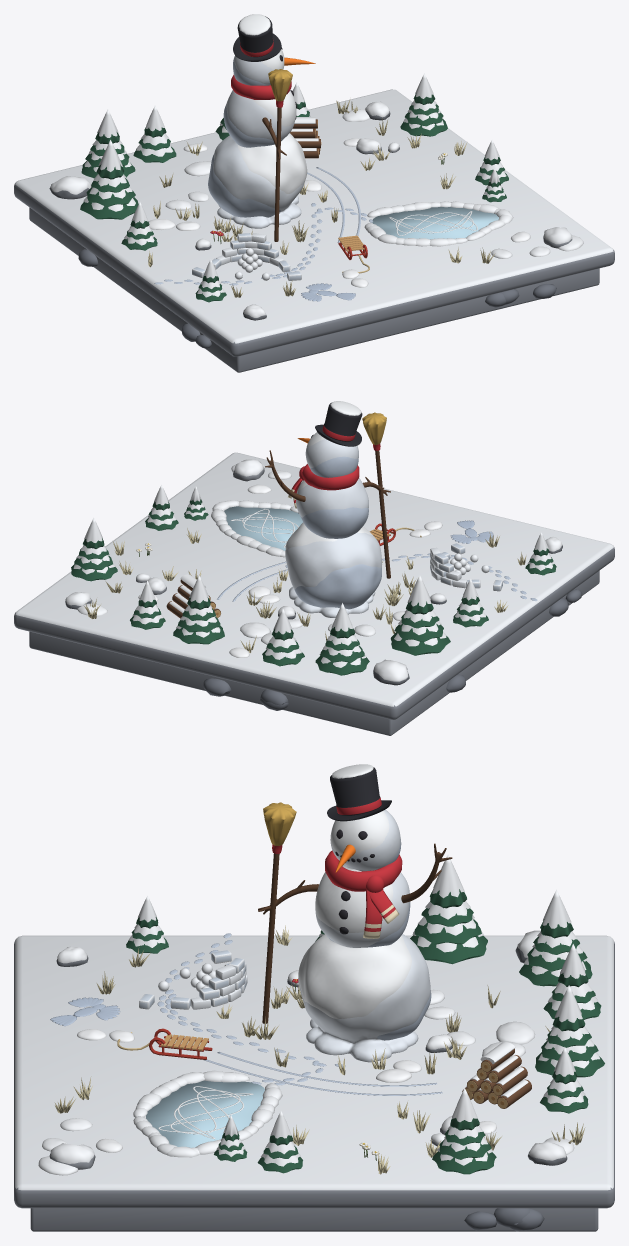
The model's file is snowman.glb.
3 renders of one model, top to bottom at view 1: azimuth 30°, elevation 25°; view 2: azimuth 150°, elevation 25°; view 3: azimuth 270°, elevation 25°, orthographic. The views are drawn at different scales.
Parts seen in each view (by area): view 1: Base, Blossoms, Firs, Grass, Rink, Trunk, Fort, Snow, Trails, LogPile, Rocks, Sledge; view 2: Base, Firs, Blossoms, Grass, Rink, Trunk, Snow, Fort, Trails, LogPile, Rocks; view 3: Base, Blossoms, Firs, Rink, Grass, Trunk, Trails, Fort, LogPile, Snow, Sledge, Rocks.
Part boxes in pixels (x1,y1,x2,y2): Base: (14,89,614,372); Blossoms: (208,14,315,228); Firs: (80,73,508,302); Grass: (148,99,583,297); Rink: (364,201,513,246); Trunk: (233,16,292,241); Fort: (192,233,301,280); Snow: (50,101,572,317); Trails: (154,167,372,301); LogPile: (290,117,321,158); Rocks: (49,111,572,320); Sledge: (338,235,369,273); Base: (14,452,614,735); Firs: (71,485,556,675); Blossoms: (285,401,381,617); Grass: (77,464,526,657); Rink: (211,500,302,557); Trunk: (265,402,390,578); Snow: (65,459,562,681); Fort: (430,543,502,591); Trails: (217,520,537,601); LogPile: (166,574,220,618); Rocks: (65,468,562,685); Base: (14,935,614,1231); Blossoms: (298,764,431,1062); Firs: (126,854,604,1174); Rink: (133,1070,282,1157); Grass: (38,925,585,1175); Trunk: (258,767,452,1023); Trails: (50,933,442,1095); Fort: (139,950,247,1009); LogPile: (462,1042,531,1108); Snow: (50,930,566,1163); Sledge: (117,1028,212,1059); Rocks: (49,946,567,1169).
Bounding box in the file's own units: 72 × 41.95 × 72.
